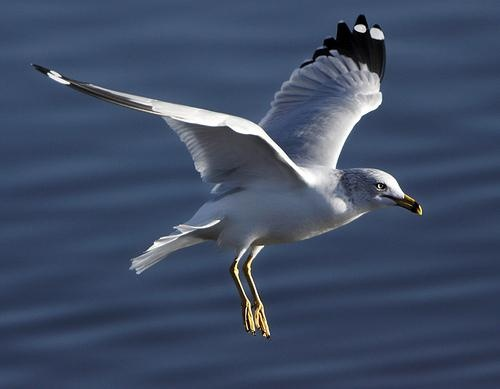bird: (34, 16, 428, 339)
